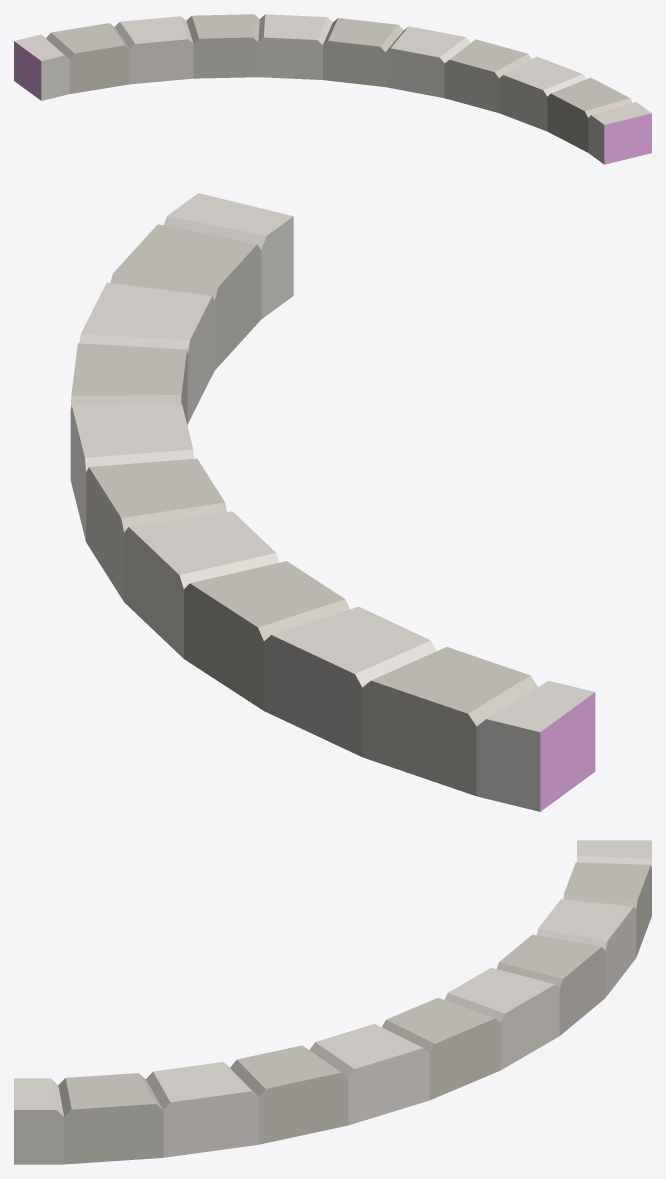
File: Path_Edging_Stones_Curve_3x3.glb
3 views of the same model, one above another, from view 1: azimuth 30°, elevation 25°; view 2: azimuth 150°, elevation 25°; view 3: azimuth 270°, elevation 25° (orthographic). The views are drawn at different scales.
Parts seen in each view (by area): view 1: Path_Edging_Stones_Curve_3x3; view 2: Path_Edging_Stones_Curve_3x3; view 3: Path_Edging_Stones_Curve_3x3.
Boxes of the visible parts, bbox=[...] form: Path_Edging_Stones_Curve_3x3: bbox=[14, 14, 651, 164]; Path_Edging_Stones_Curve_3x3: bbox=[70, 193, 595, 811]; Path_Edging_Stones_Curve_3x3: bbox=[14, 840, 651, 1164].
Size of the model in its own units: 266 by 25 by 266.
